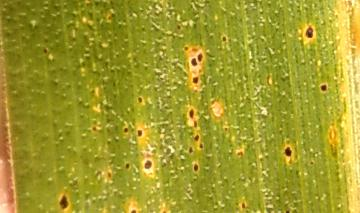tarspot: (302, 24, 318, 42), (58, 193, 69, 210), (283, 145, 293, 160), (186, 107, 197, 120), (191, 161, 201, 175), (142, 158, 153, 170), (189, 56, 198, 70), (239, 198, 248, 212), (190, 76, 202, 86), (319, 81, 328, 94), (40, 45, 50, 56), (90, 123, 100, 134), (197, 50, 203, 67), (135, 94, 144, 105), (219, 35, 230, 44), (191, 132, 201, 141), (121, 126, 132, 134), (198, 141, 205, 153), (127, 207, 140, 213), (137, 129, 144, 140), (187, 144, 194, 155), (123, 161, 131, 170)
